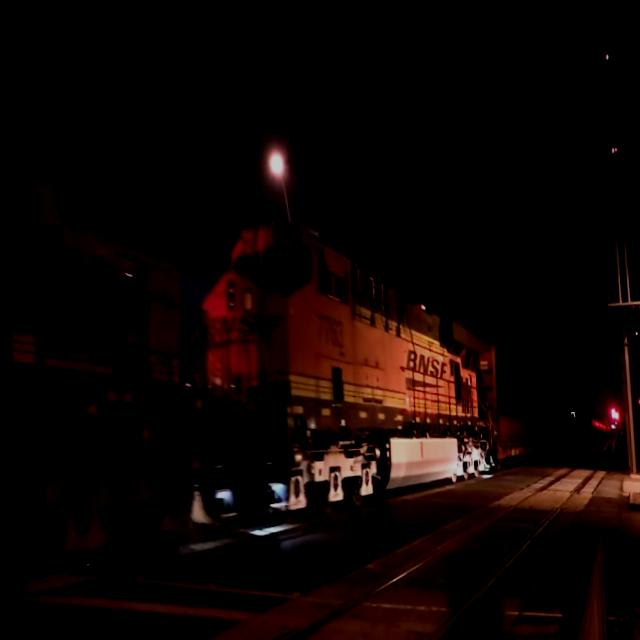cargo: (495, 405, 535, 438)
flatcar_bulkhead: (488, 335, 544, 461)
locomotive: (1, 38, 229, 569), (186, 189, 494, 535)
